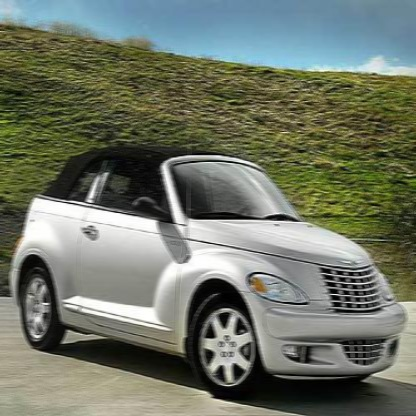Vehicle: (11, 146, 409, 401)
